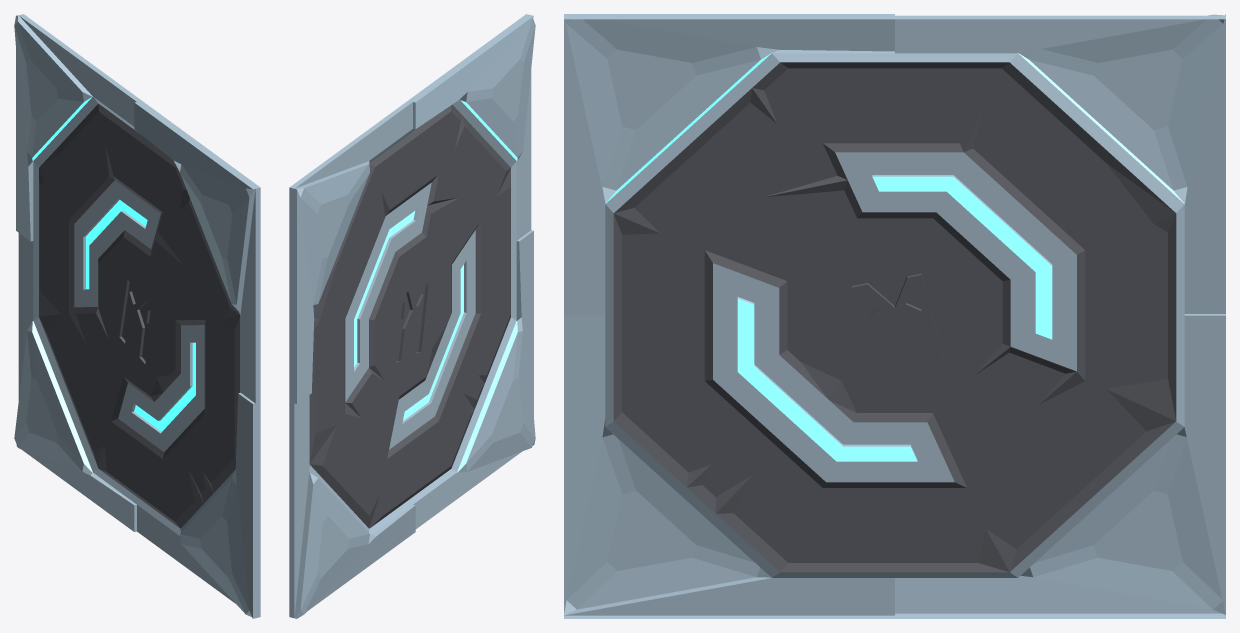
The model's file is Wall_Medium_Square.fbx.
3 views of the same model, side by side, from view 1: azimuth 30°, elevation 25°; view 2: azimuth 150°, elevation 25°; view 3: azimuth 270°, elevation 25° (orthographic). The views are drawn at different scales.
Parts seen in each view (by area): view 1: Wall_Medium_Square; view 2: Wall_Medium_Square; view 3: Wall_Medium_Square.
Part boxes in pixels (box(x1,y1,x2,y2)): Wall_Medium_Square: box(14, 14, 260, 618); Wall_Medium_Square: box(289, 14, 535, 618); Wall_Medium_Square: box(564, 14, 1225, 618).
Size of the model in its own units: 0.25 by 8 by 8.
